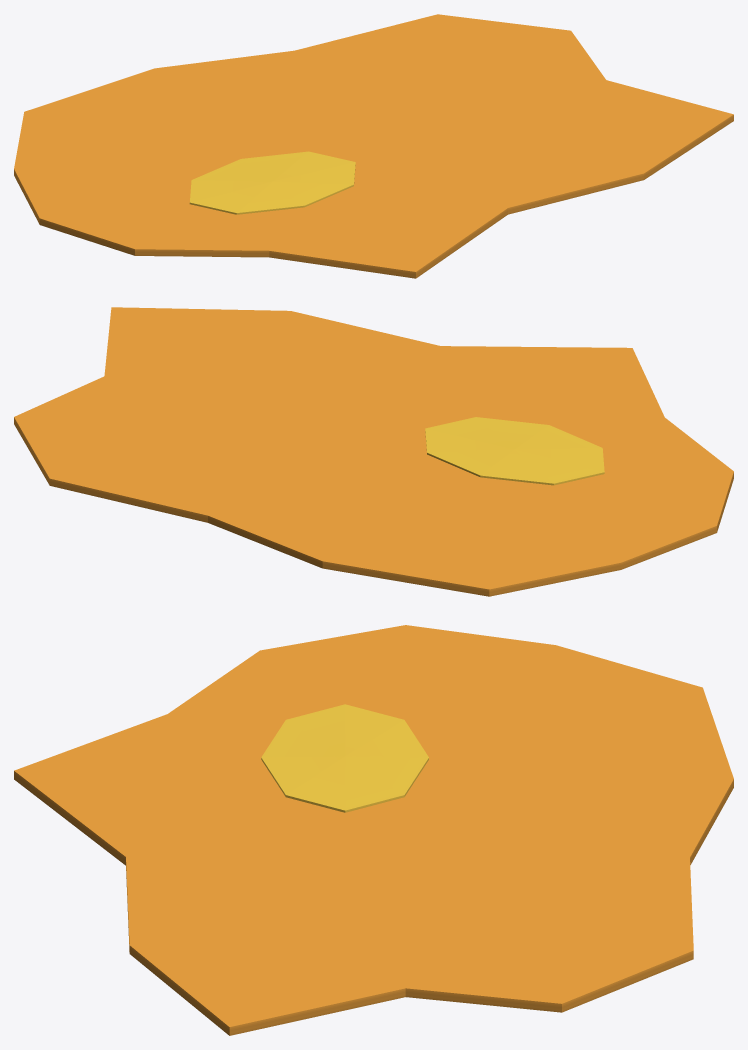
Rendered from Mancha.glb.
The picture shows the model from 3 angles, top to bottom: view 1: azimuth 30°, elevation 25°; view 2: azimuth 150°, elevation 25°; view 3: azimuth 270°, elevation 25°; orthographic projection. The views are drawn at different scales.
Visible parts, largest first — view 1: Mancha_Malha; view 2: Mancha_Malha; view 3: Mancha_Malha.
Boxes of the visible parts, x1,y1,x2,y2 form: Mancha_Malha: [14, 14, 733, 278]; Mancha_Malha: [14, 307, 733, 596]; Mancha_Malha: [14, 625, 733, 1035].
Bounding box in the file's own units: 0.7858 × 0.011 × 0.5945.
1 material, 1 textured.
